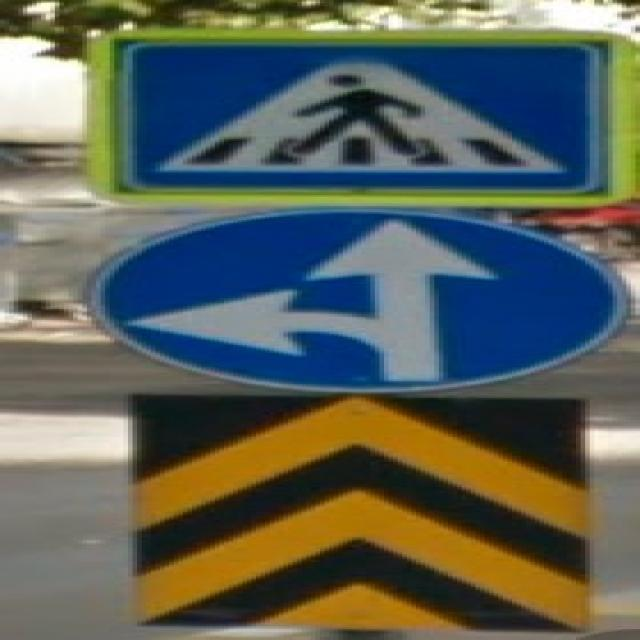Straight or Left: (88, 209, 632, 390)
